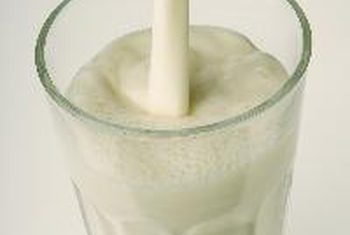glass of milk: (96, 49, 269, 221)
